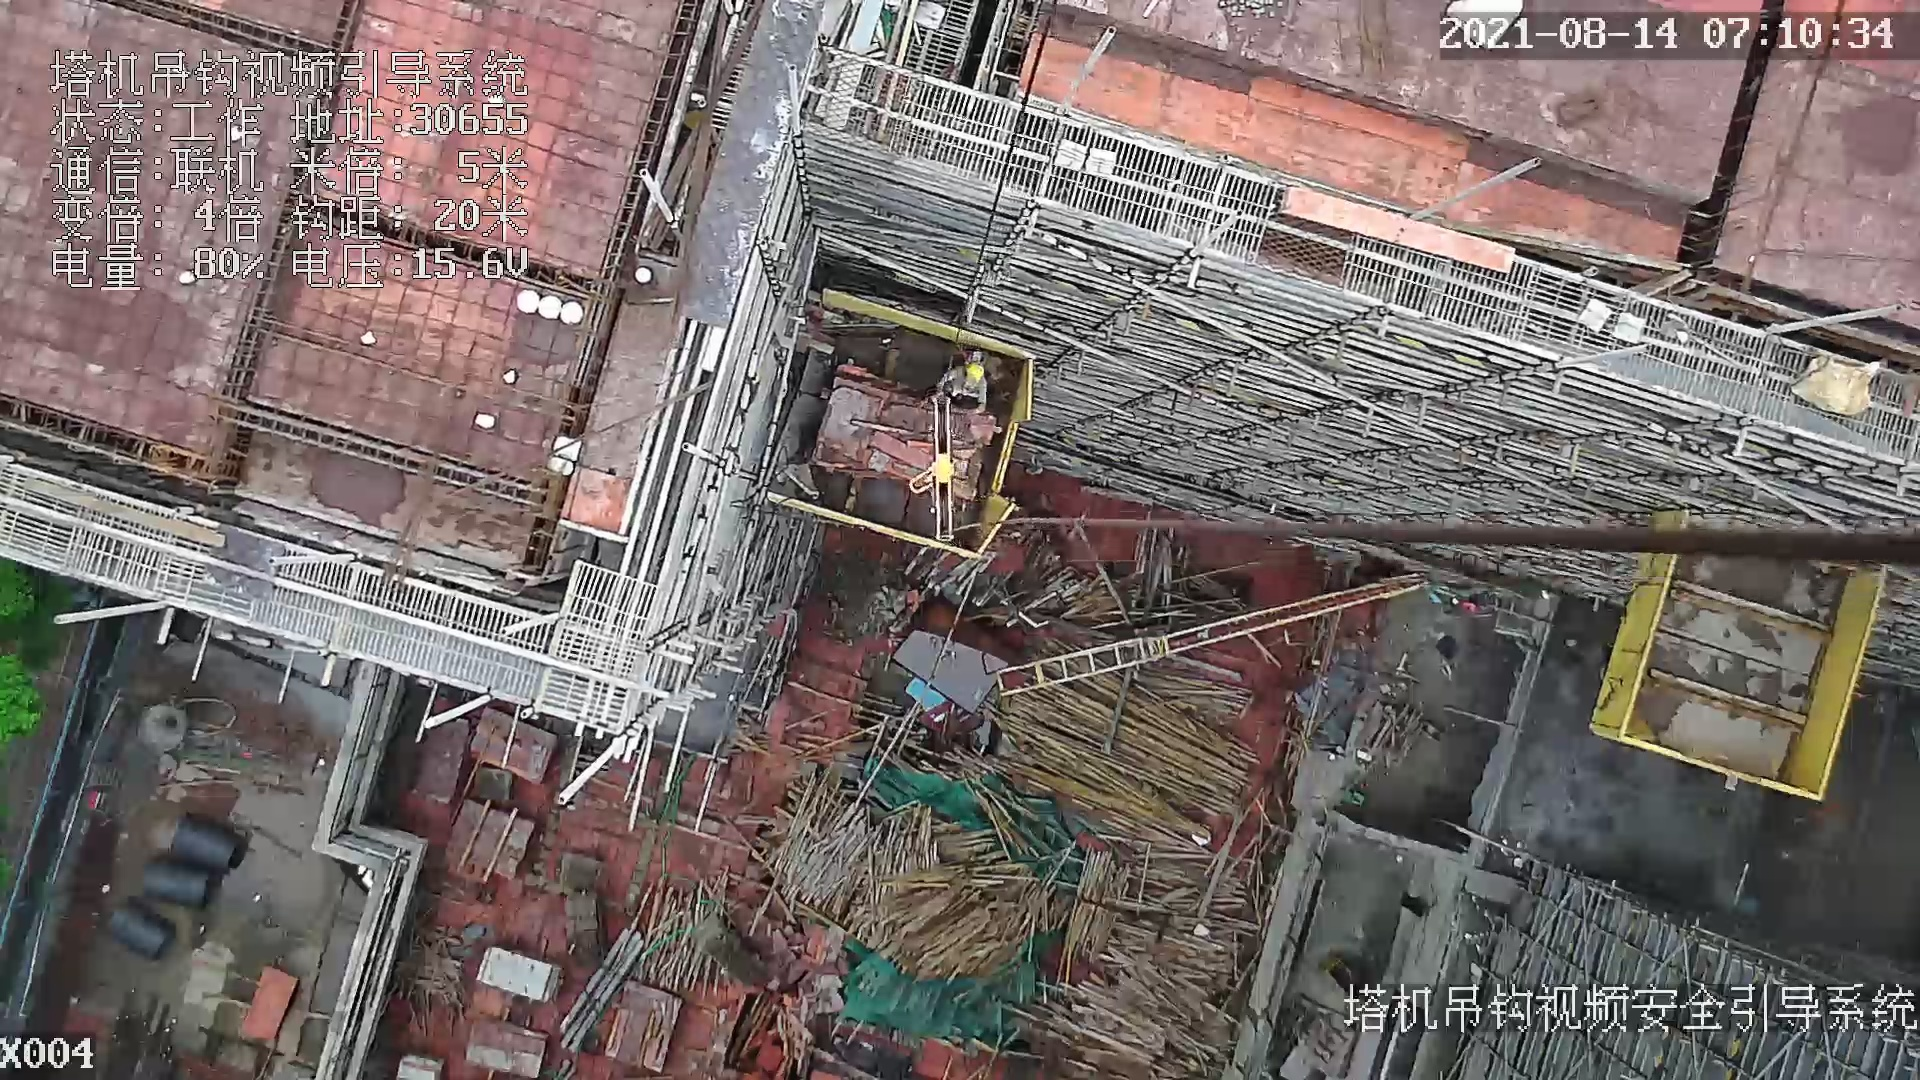helmet: (963, 363, 985, 385)
hook: (908, 386, 960, 545)
person: (936, 359, 991, 415)
